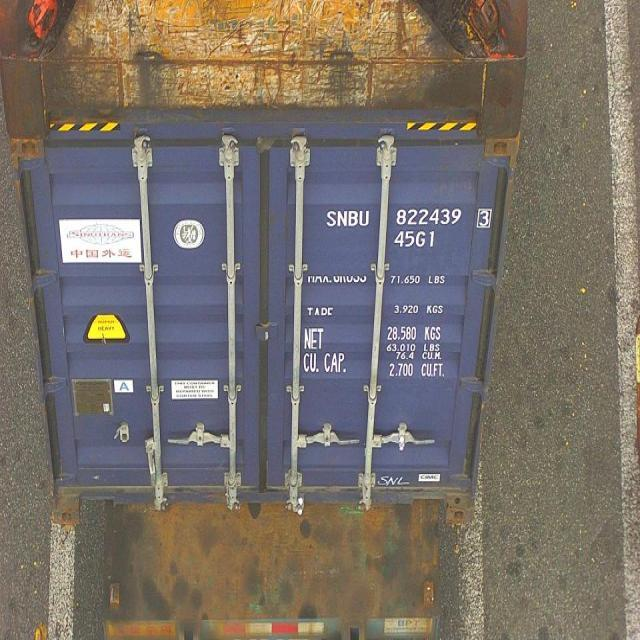ISO: (393, 232, 436, 250)
container_number: (325, 203, 492, 232)
